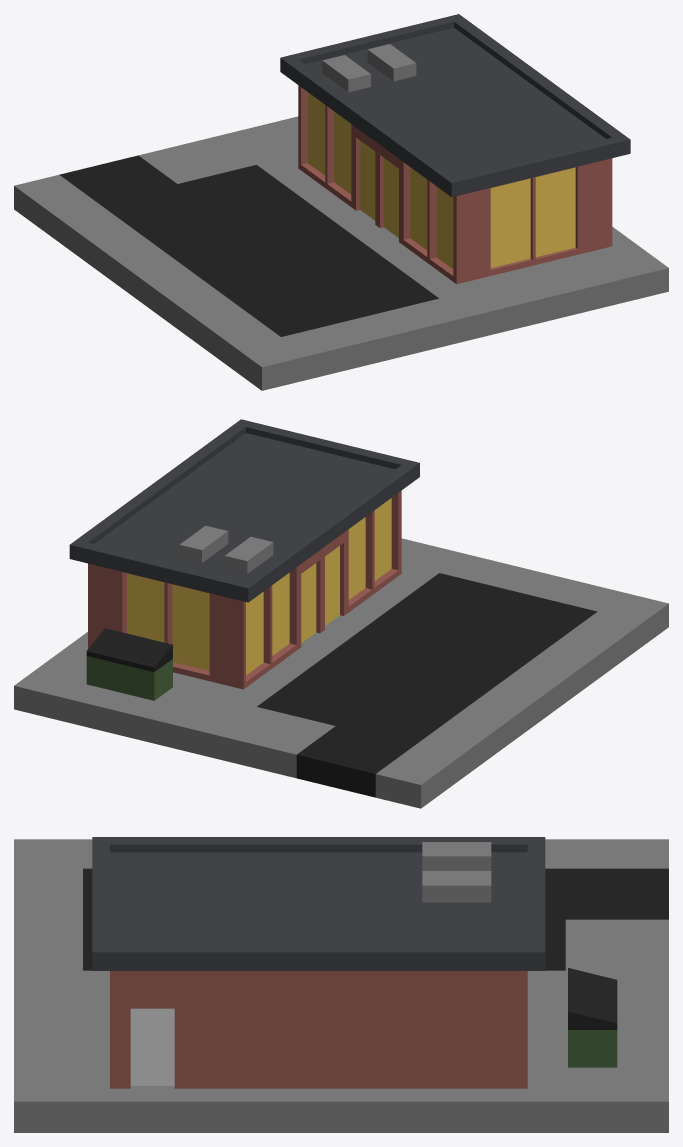
Rendered from Shop.fbx.
The picture shows the model from 3 angles, top to bottom: view 1: azimuth 30°, elevation 25°; view 2: azimuth 150°, elevation 25°; view 3: azimuth 270°, elevation 25°; orthographic projection. The views are drawn at different scales.
Visible parts, largest first — view 1: Cube.009; view 2: Cube.009; view 3: Cube.009.
Boxes of the visible parts, x1,y1,x2,y2 form: Cube.009: (14, 14, 668, 390); Cube.009: (14, 419, 668, 808); Cube.009: (14, 837, 668, 1132).
Size of the model in its own units: 1800 by 589 by 1900.
